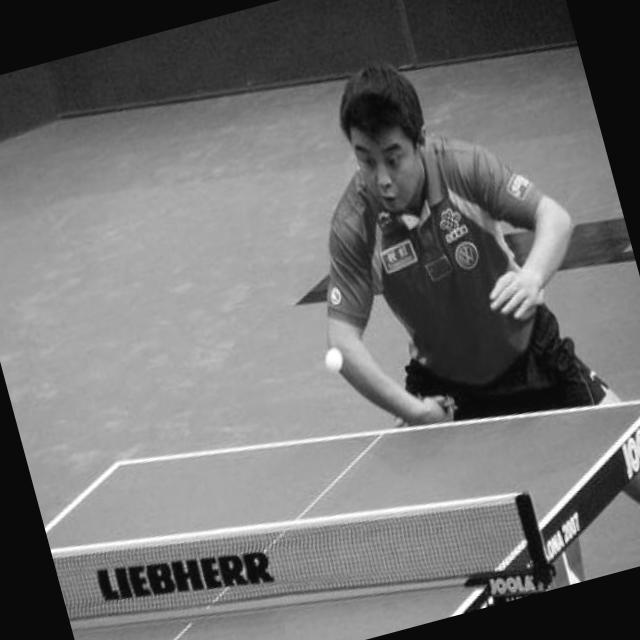ping-pong-ball: (320, 344, 346, 374)
